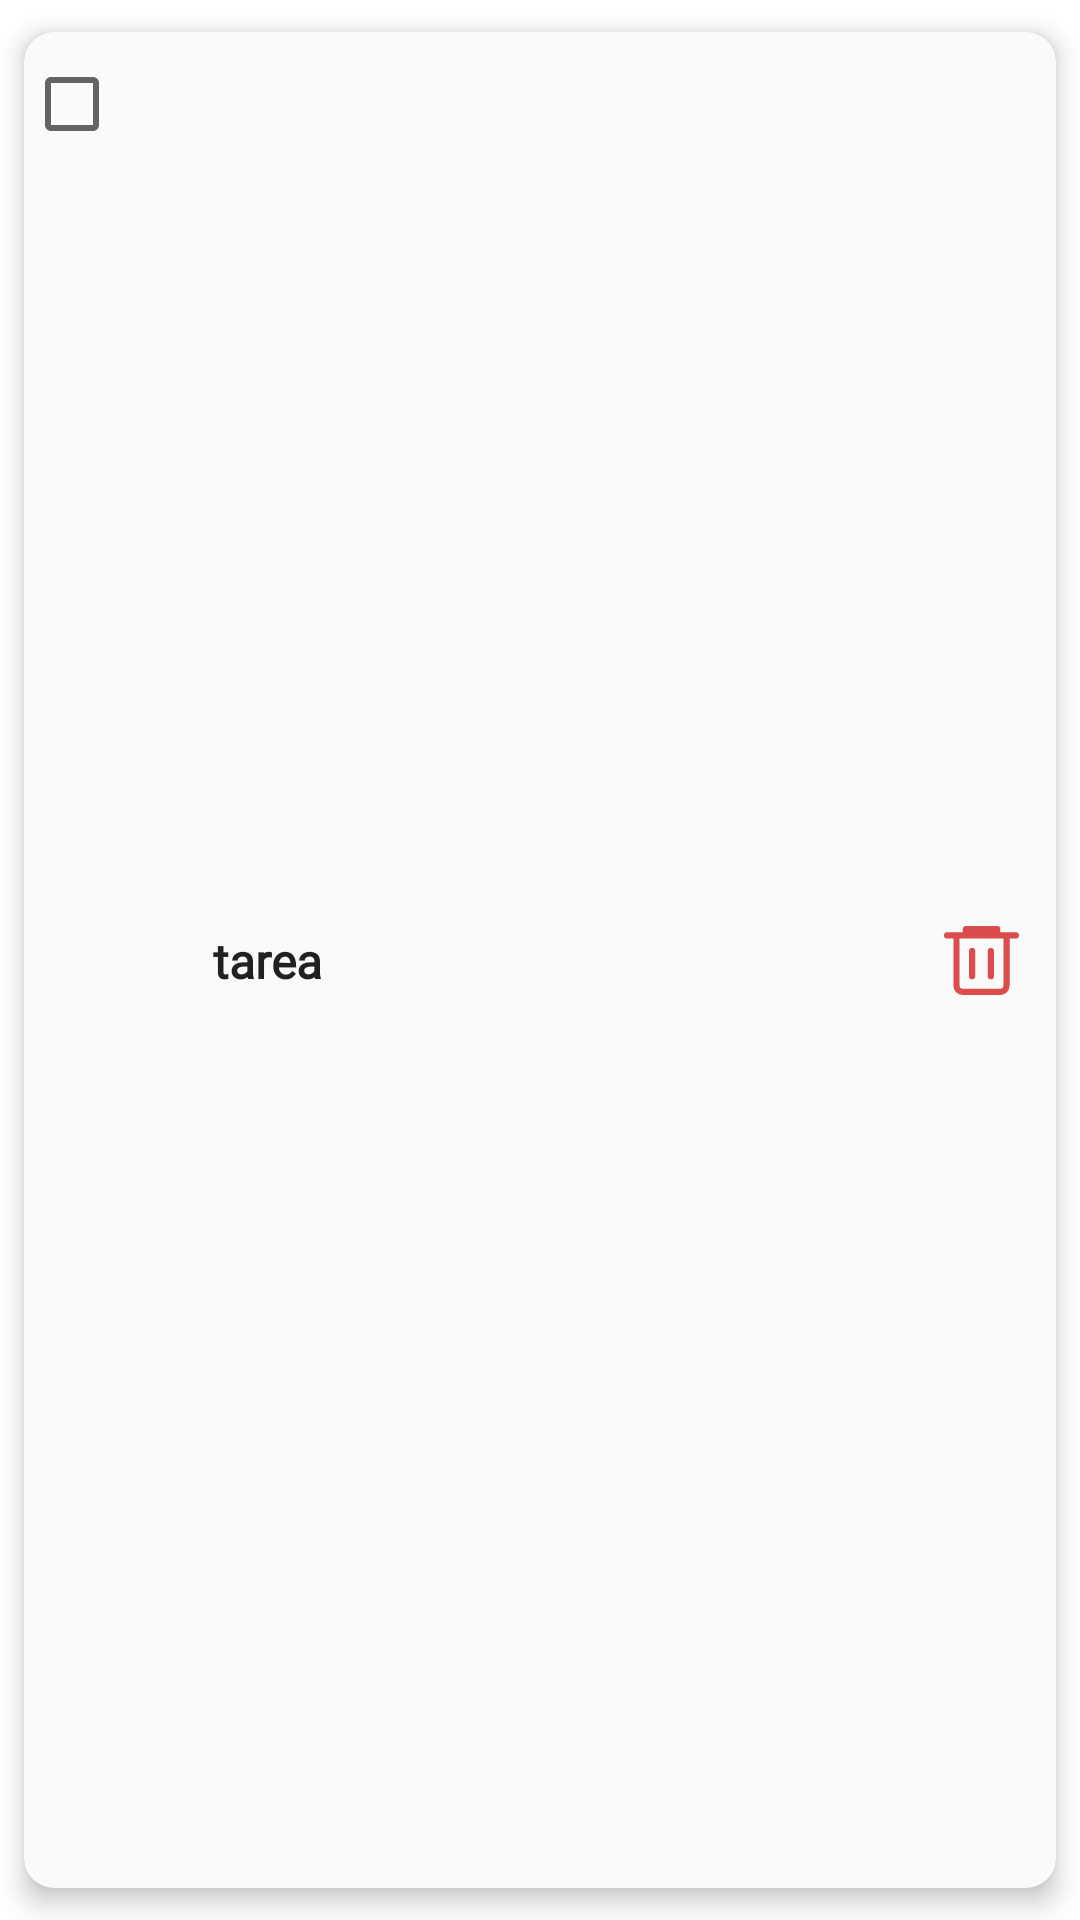

Screen size 1080x1920. Icon name, then its box in pixels as (x1, y1, x2, y2):
delete: (944, 926, 1019, 995)
